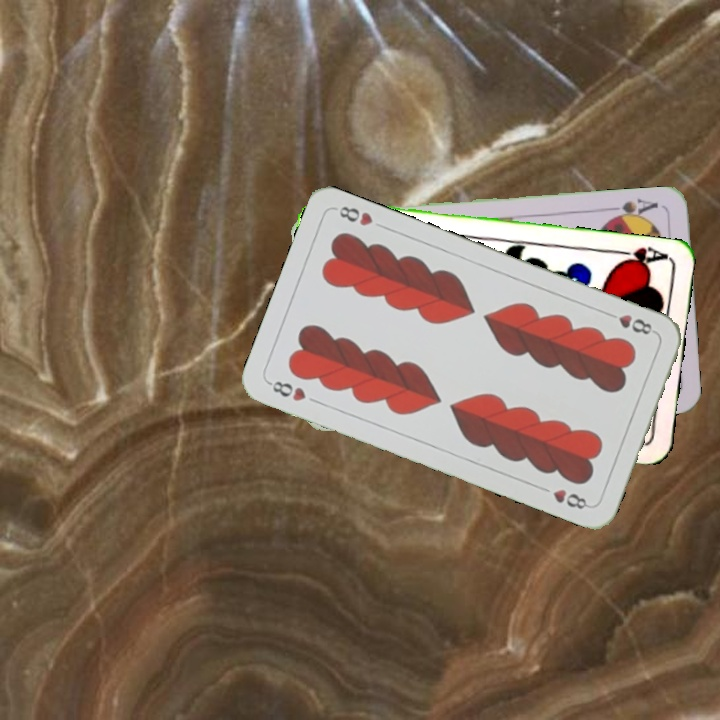H8: (601, 308, 658, 338), (264, 376, 309, 404)
HA: (610, 243, 669, 270)
SA: (604, 194, 661, 223)
